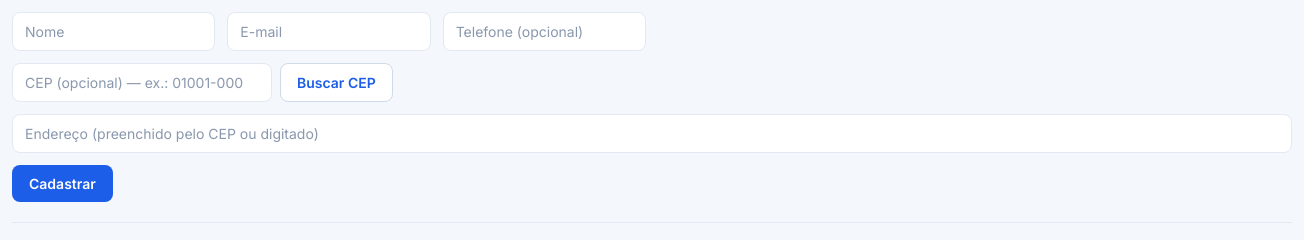
Test case: ClienteForm › Buscar CEP preenche o endereço com a resposta da API externa
In the field with placeholder "CEP (opcional) — ex.: 01001-000": (142, 82) [12,63,272,102], type "74000-000"
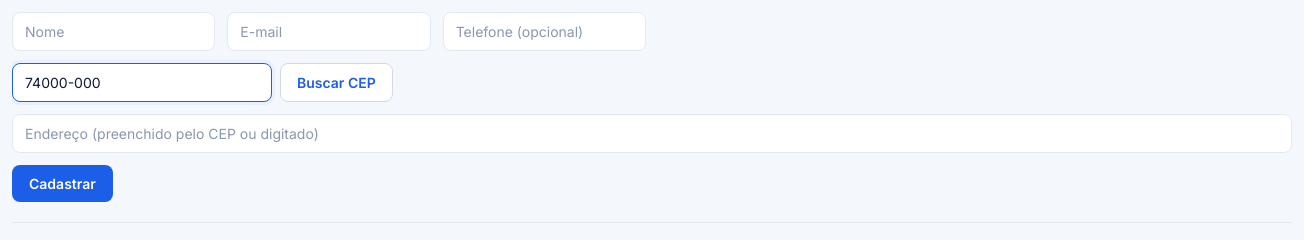
Click the button "Buscar CEP": (336, 82) [280,63,393,102]
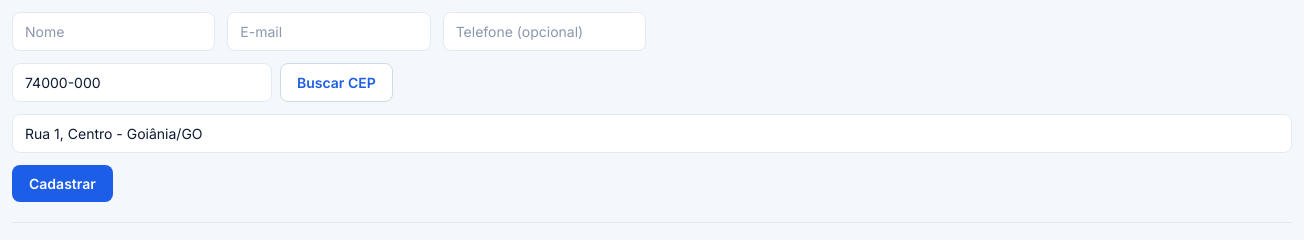
Check: the 2nd field with placeholder "Endereço (preenchido pelo CEP ou digitado)" holds "Rua 1, Centro - Goiânia/GO", box [12,114,1292,153]
